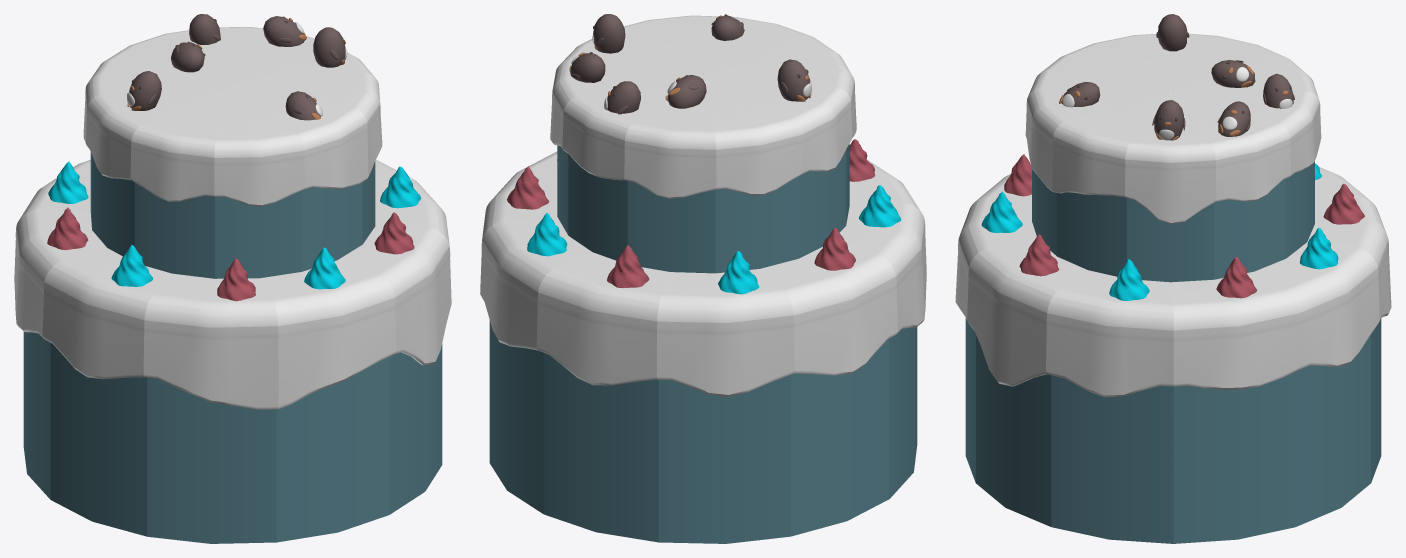
File: Cake_001_Main.fbx
The picture shows the model from 3 angles, left to right: view 1: azimuth 30°, elevation 25°; view 2: azimuth 150°, elevation 25°; view 3: azimuth 270°, elevation 25°; orthographic projection. The views are drawn at different scales.
Visible parts, largest first — view 1: p_018, p_019, p_017, P_020, p_006, P_005, p_007, P_016, P_004, p_008, P_009, P_011 (+5 smaller); view 2: P_015, p_014, P_016, P_013, P_002, p_003, P_001, p_017, P_004, P_010, P_012, P_009 (+5 smaller); view 3: P_011, P_012, P_013, P_020, P_009, P_010, p_008, P_001, p_007, p_014, p_019, P_004 (+6 smaller).
Part boxes in pixels (bbox=[...]): p_018: bbox=[143, 258, 278, 543]; p_019: bbox=[263, 247, 396, 542]; p_017: bbox=[42, 244, 174, 536]; P_020: bbox=[339, 212, 451, 514]; p_006: bbox=[214, 84, 304, 278]; P_005: bbox=[130, 84, 232, 278]; p_007: bbox=[234, 84, 368, 271]; P_016: bbox=[14, 207, 108, 499]; P_004: bbox=[86, 71, 232, 256]; p_008: bbox=[234, 73, 382, 244]; P_009: bbox=[233, 27, 375, 83]; P_011: bbox=[375, 166, 449, 244]; P_015: bbox=[656, 251, 794, 543]; p_014: bbox=[536, 245, 672, 542]; P_016: bbox=[763, 228, 897, 536]; P_013: bbox=[480, 213, 594, 513]; P_002: bbox=[624, 74, 716, 273]; p_003: bbox=[703, 74, 803, 273]; P_001: bbox=[562, 74, 702, 260]; p_017: bbox=[839, 185, 926, 498]; P_004: bbox=[704, 59, 852, 258]; P_010: bbox=[550, 52, 702, 234]; P_012: bbox=[482, 166, 557, 237]; P_009: bbox=[561, 14, 702, 73]; P_011: bbox=[1046, 259, 1173, 543]; P_012: bbox=[1173, 256, 1300, 543]; P_013: bbox=[1257, 227, 1379, 526]; P_020: bbox=[967, 234, 1089, 526]; P_009: bbox=[1125, 89, 1216, 282]; P_010: bbox=[1174, 89, 1291, 279]; p_008: bbox=[1052, 89, 1172, 276]; P_001: bbox=[1174, 73, 1321, 258]; p_007: bbox=[1025, 82, 1172, 256]; p_014: bbox=[1308, 183, 1391, 482]; p_019: bbox=[955, 191, 1036, 482]; P_004: bbox=[1134, 14, 1217, 88].
Size of the model in its own units: 2.09 by 2.13 by 2.1.
